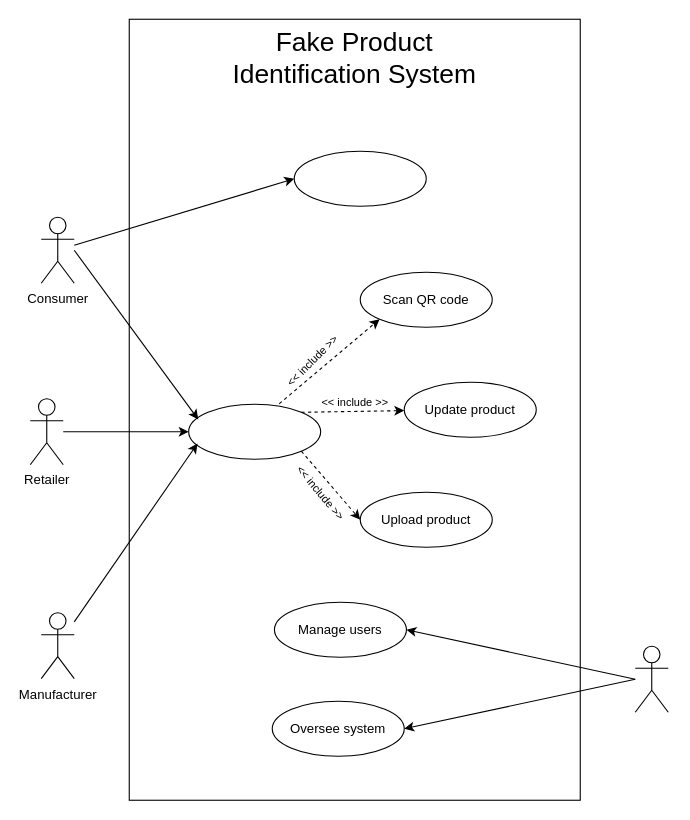
Some shapes in this 690 by 820 pixel diagram are drawn without their labels. Each missing label, with the centre of its shape:
"Admin" belongs at (x=651, y=678).
"Receive alerts" belongs at (x=359, y=178).
"Verify product" belongs at (x=254, y=431).
